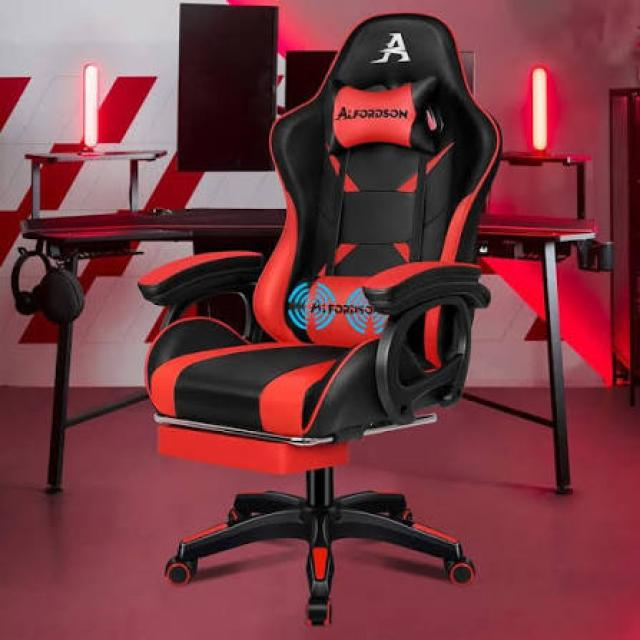Chair: (117, 3, 516, 635)
